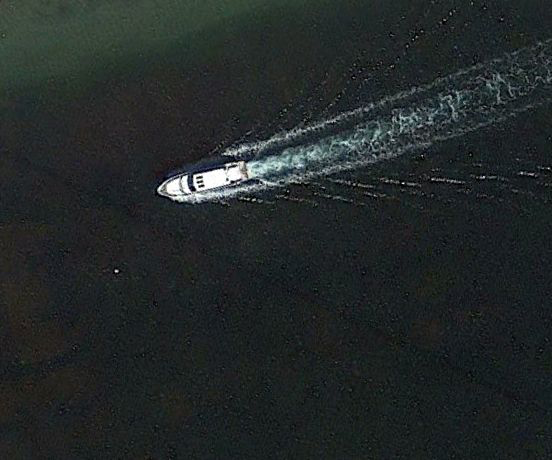boat: (156, 156, 252, 201)
